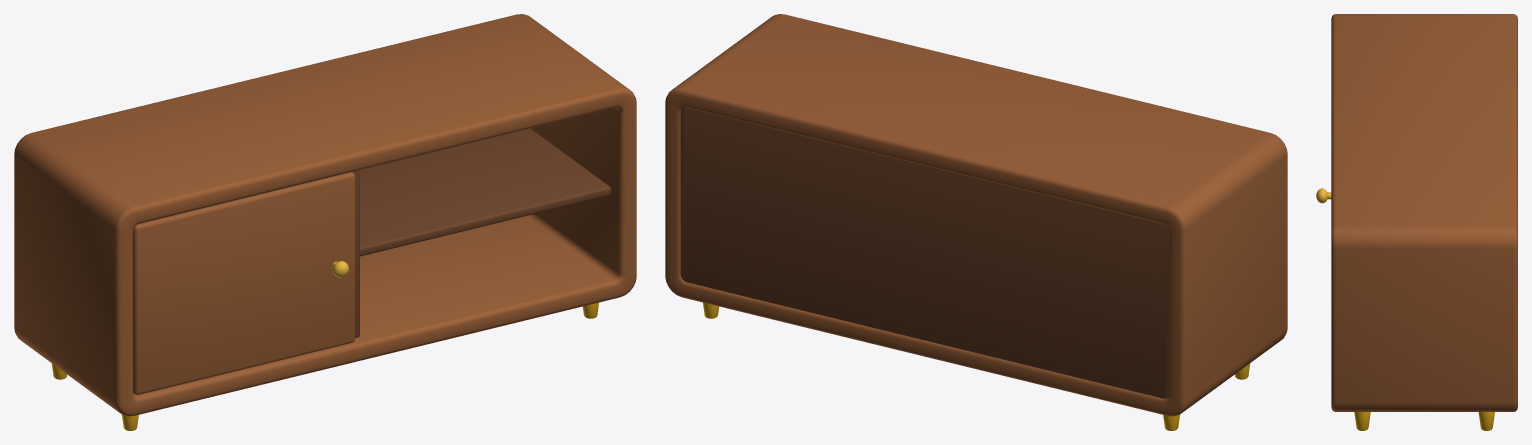
File: rack_porta_nicho_madeira.glb
3 renders of one model, left to right at view 1: azimuth 30°, elevation 25°; view 2: azimuth 150°, elevation 25°; view 3: azimuth 270°, elevation 25°, orthographic. The views are drawn at different scales.
Visible parts, largest first — view 1: rack_porta_nicho_madeira, porta_1; view 2: rack_porta_nicho_madeira; view 3: rack_porta_nicho_madeira.
Part boxes in pixels (<box>): rack_porta_nicho_madeira: <box>14,14,636,430</box>; porta_1: <box>133,172,355,394</box>; rack_porta_nicho_madeira: <box>665,14,1287,430</box>; rack_porta_nicho_madeira: <box>1331,14,1517,430</box>.
Size of the model in its own units: 1.2 by 0.52 by 0.4546.
Materials: 1 (1 with a texture image).
